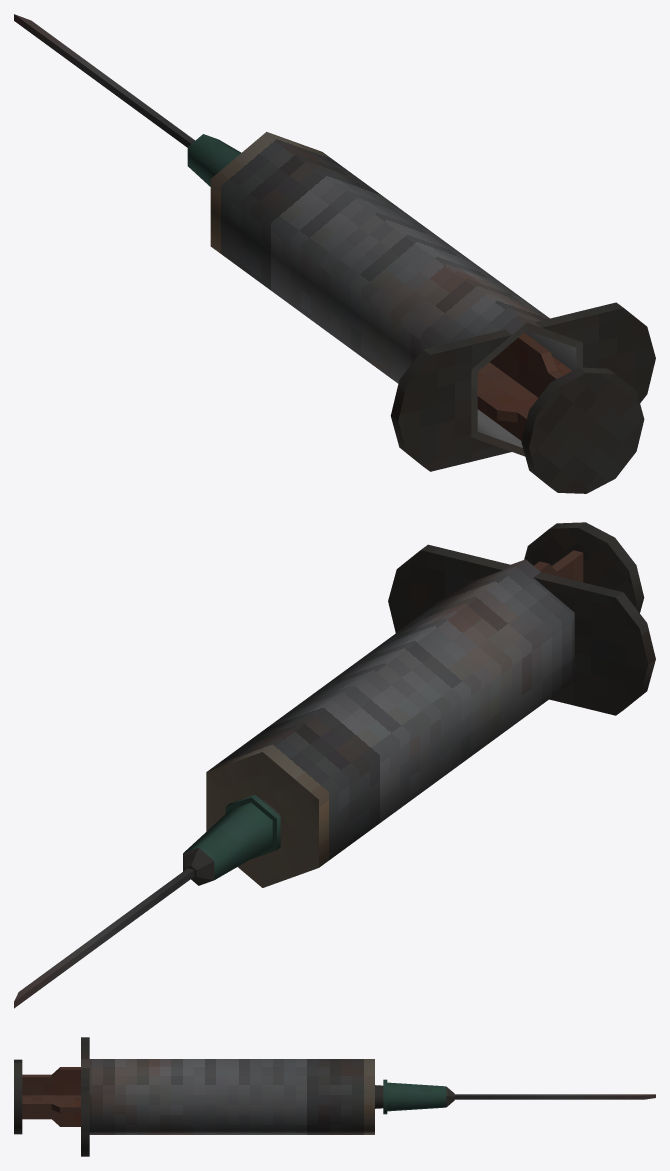
File: syringe_mp_1_1.glb
3 renders of one model, top to bottom at view 1: azimuth 30°, elevation 25°; view 2: azimuth 150°, elevation 25°; view 3: azimuth 270°, elevation 25°, orthographic. The views are drawn at different scales.
Visible parts, largest first — view 1: syringe_mp_1_1; view 2: syringe_mp_1_1; view 3: syringe_mp_1_1.
Boxes of the visible parts, left/top/right/bottom form: syringe_mp_1_1: left=14, top=14, right=655, bottom=493; syringe_mp_1_1: left=14, top=522, right=655, bottom=1008; syringe_mp_1_1: left=14, top=1037, right=655, bottom=1156.
Size of the model in its own units: 0.04 by 0.02 by 0.153.
Materials: 1 (1 with a texture image).
